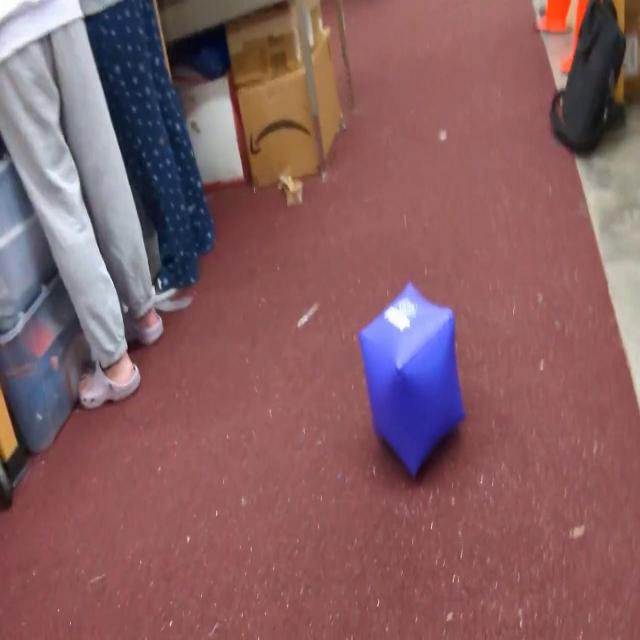frc_cube: (356, 284, 466, 478)
